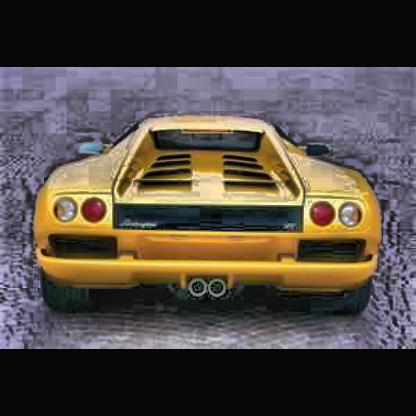Lamborghini Diablo Coupe 2001: (29, 111, 389, 327)
